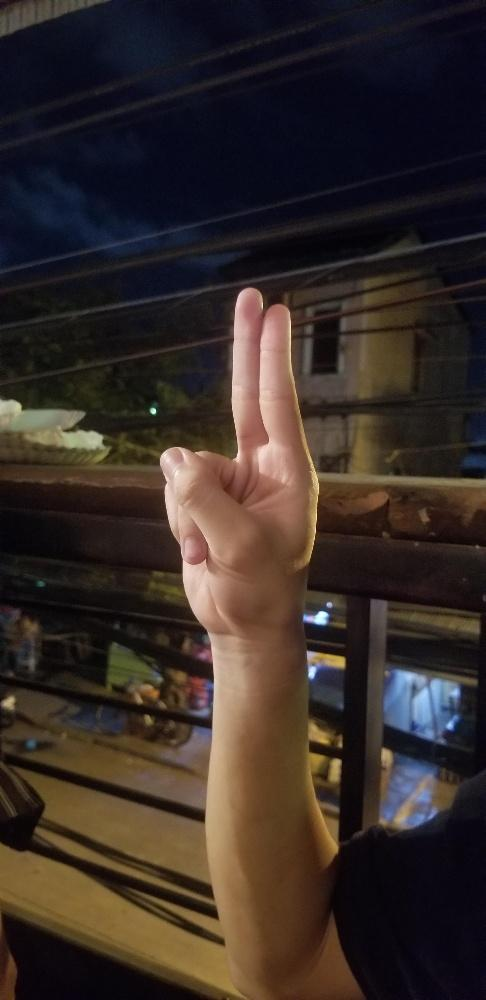u: (157, 281, 321, 651)
